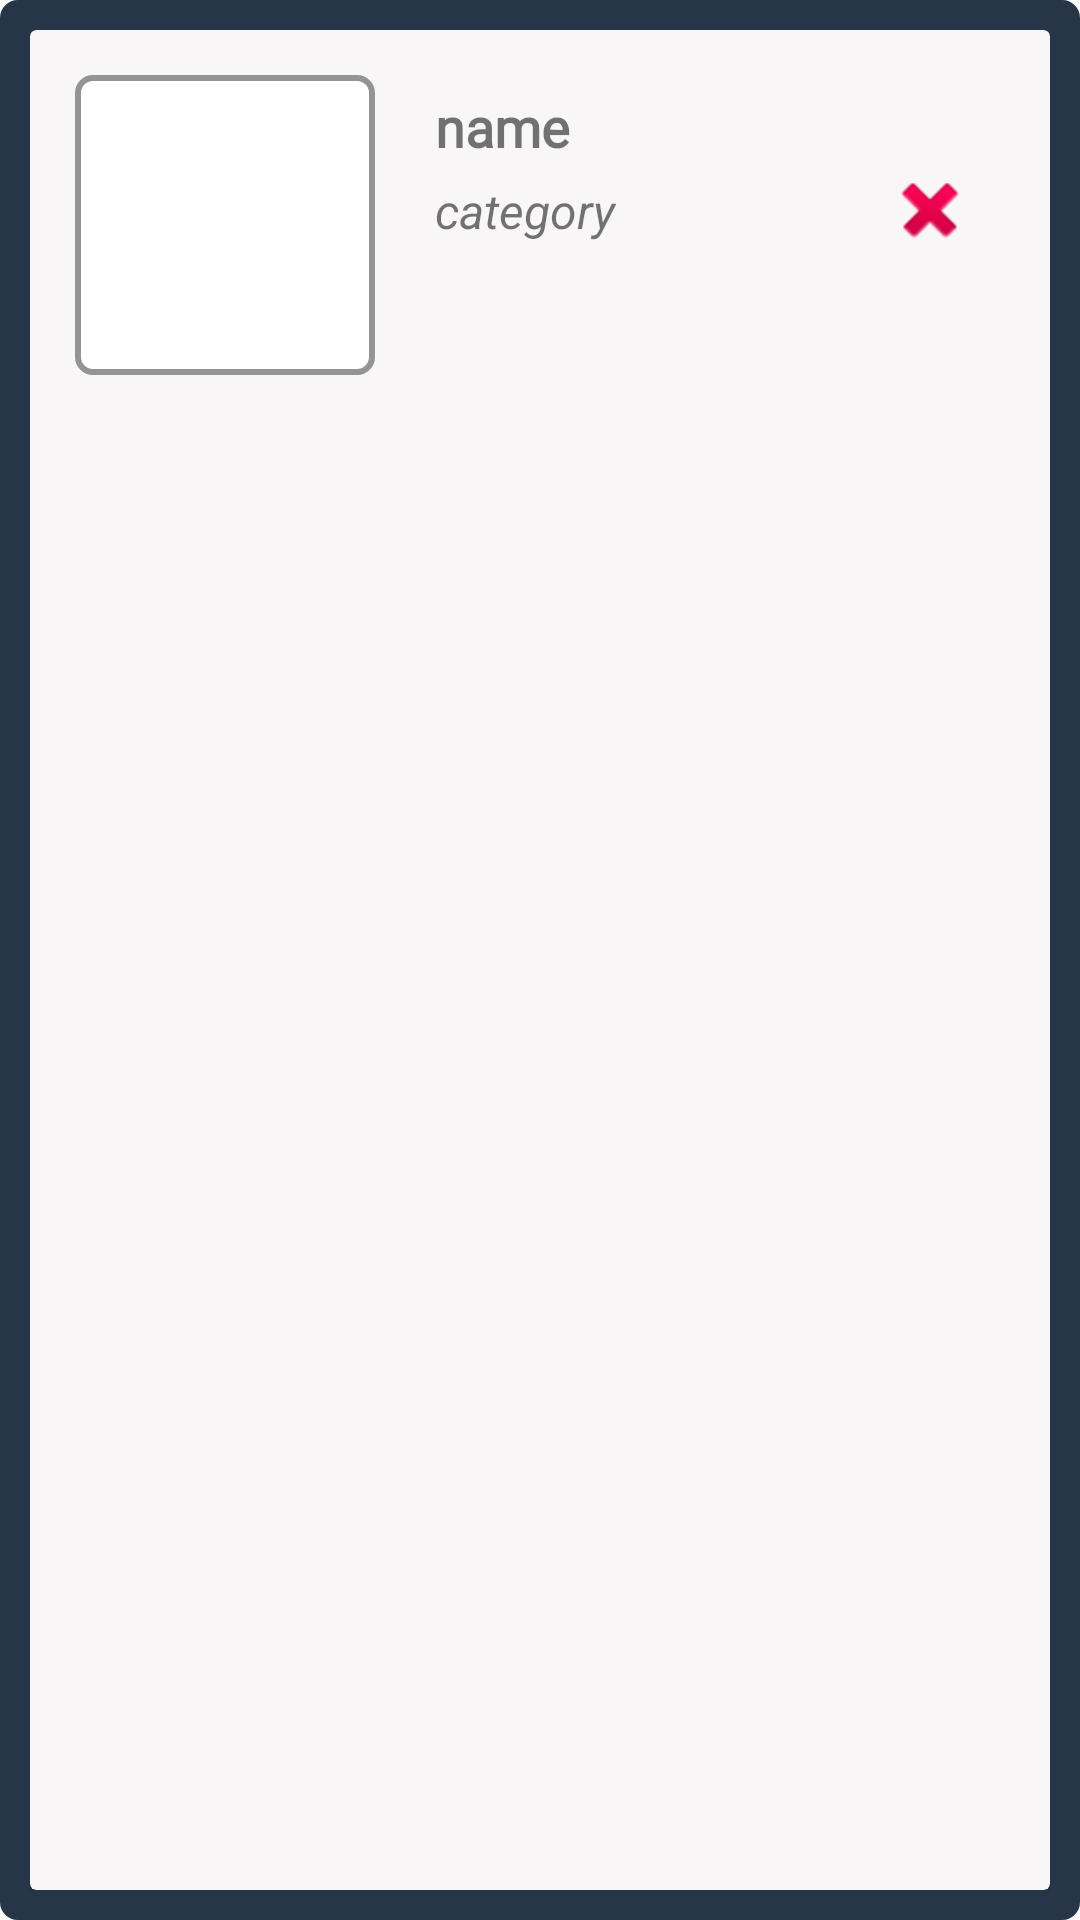

Where icons sit on this 1080w x 1920h app screen, as bbox=(x1, y1, x2, y2):
delete: bbox=(901, 183, 959, 238)
